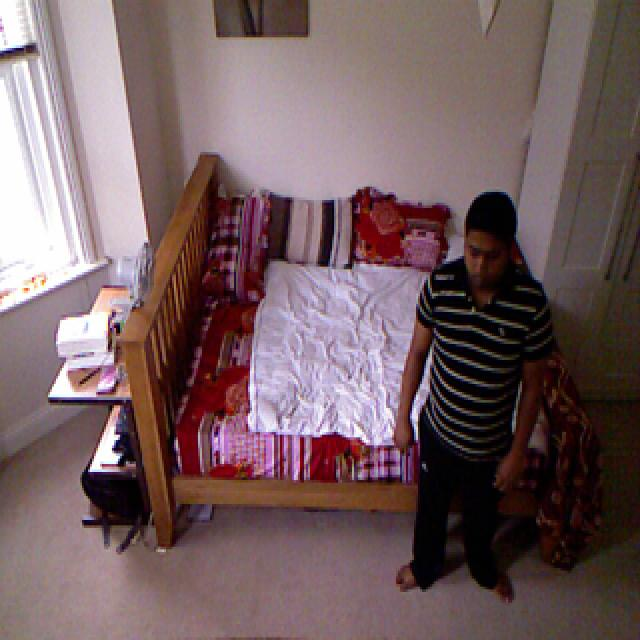standing: (398, 183, 554, 607)
